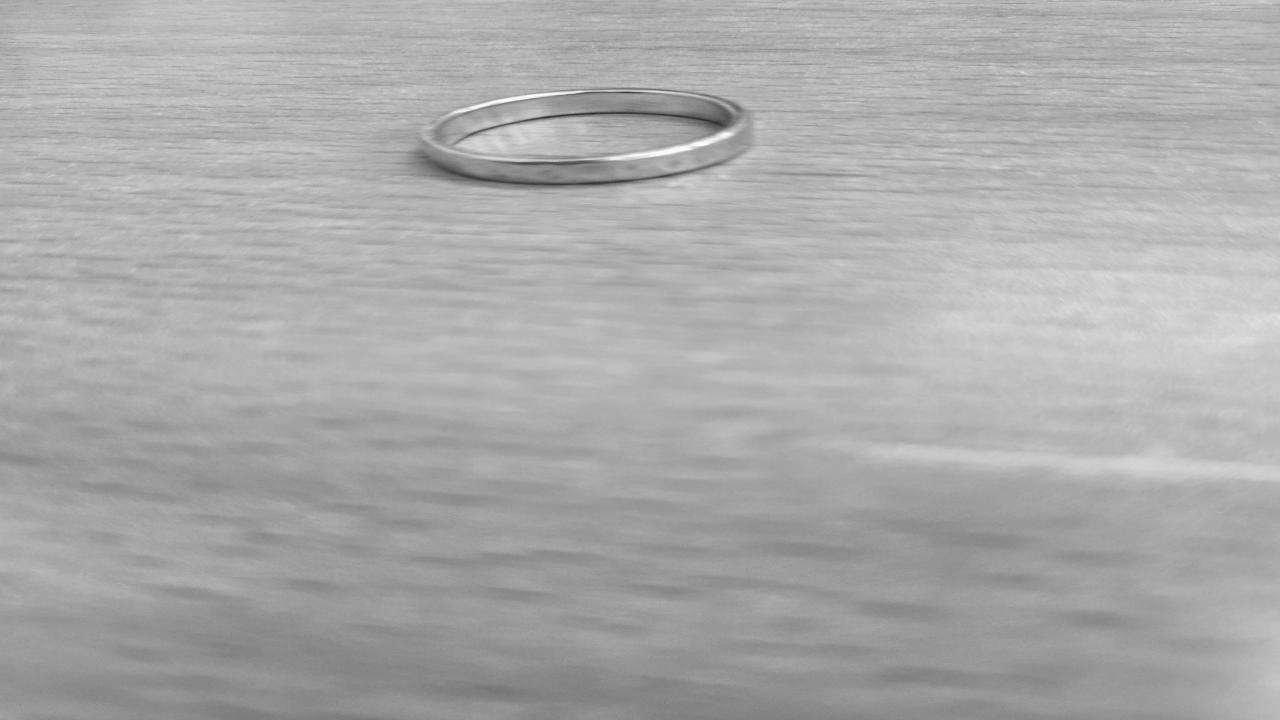ring: (418, 86, 761, 187)
